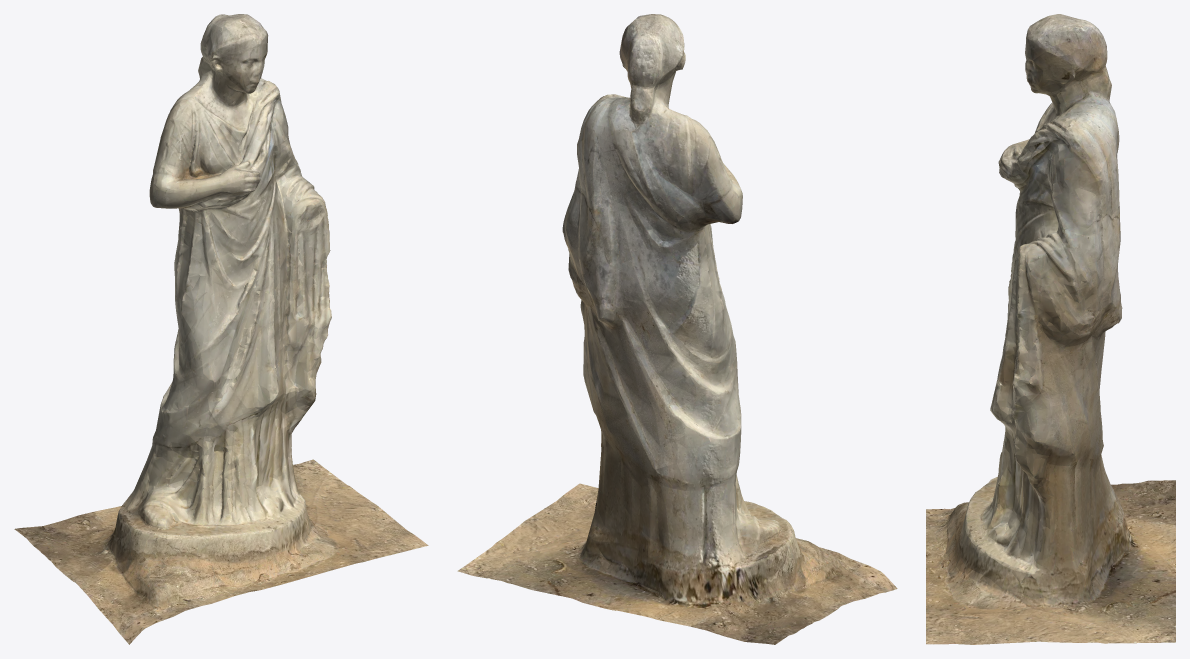
File: draped-statue.glb
The picture shows the model from 3 angles, left to right: view 1: azimuth 30°, elevation 25°; view 2: azimuth 150°, elevation 25°; view 3: azimuth 270°, elevation 25°; orthographic projection. The views are drawn at different scales.
Parts seen in each view (by area): view 1: Object_3; view 2: Object_3; view 3: Object_3.
Part boxes in pixels (<box>): Object_3: <box>14,14,428,644</box>; Object_3: <box>457,14,897,644</box>; Object_3: <box>926,14,1175,644</box>.
Size of the model in its own units: 0.9185 by 1.59 by 0.6127.
Materials: 1 (1 with a texture image).
